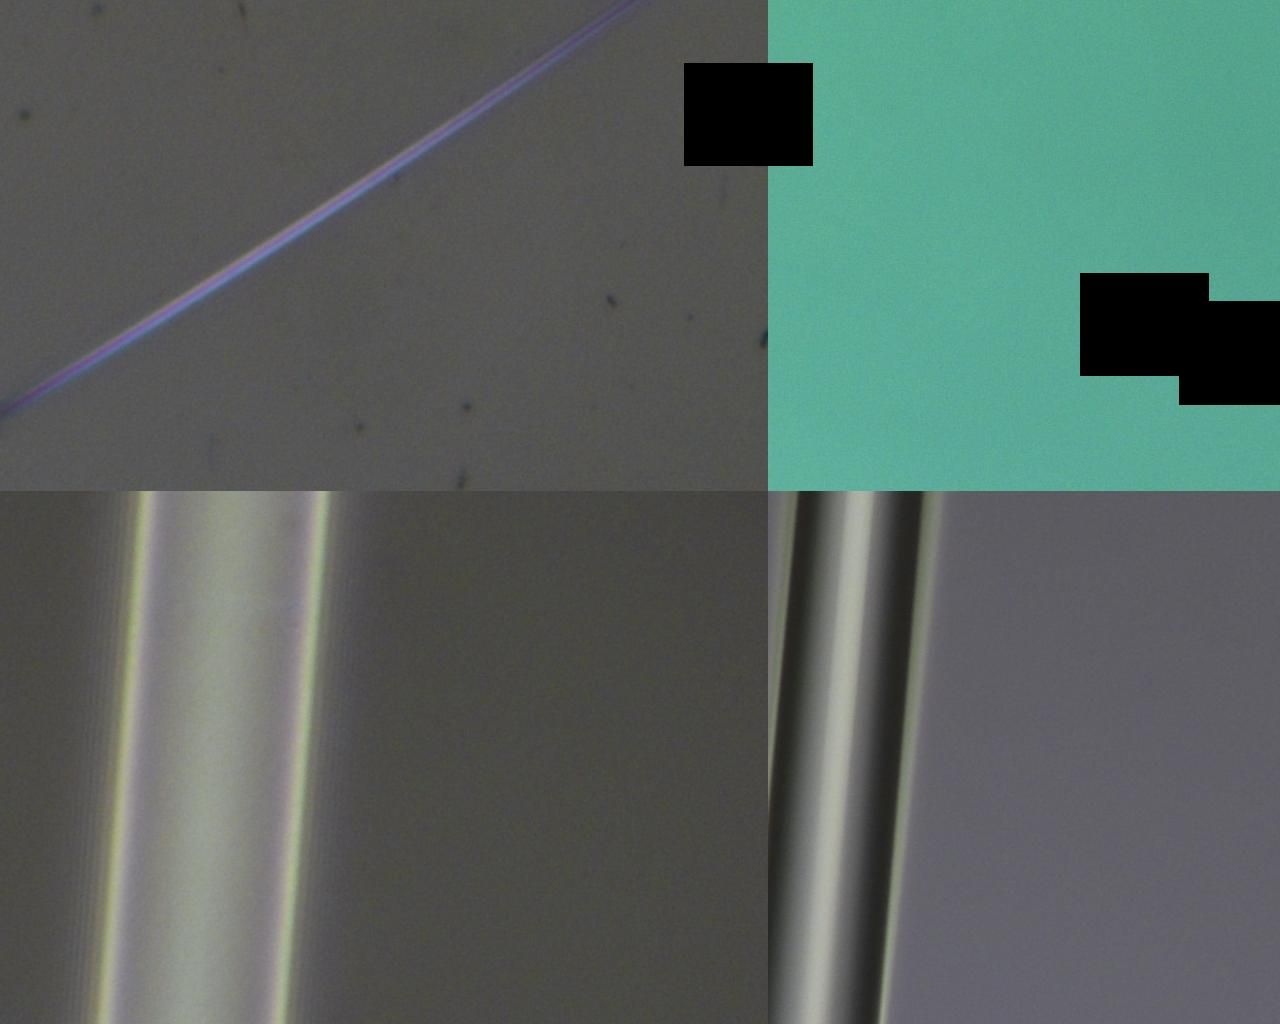fiber: (43, 471, 768, 866), (0, 53, 768, 196), (768, 351, 1280, 471)
